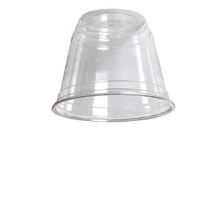glass: (47, 4, 184, 127)
